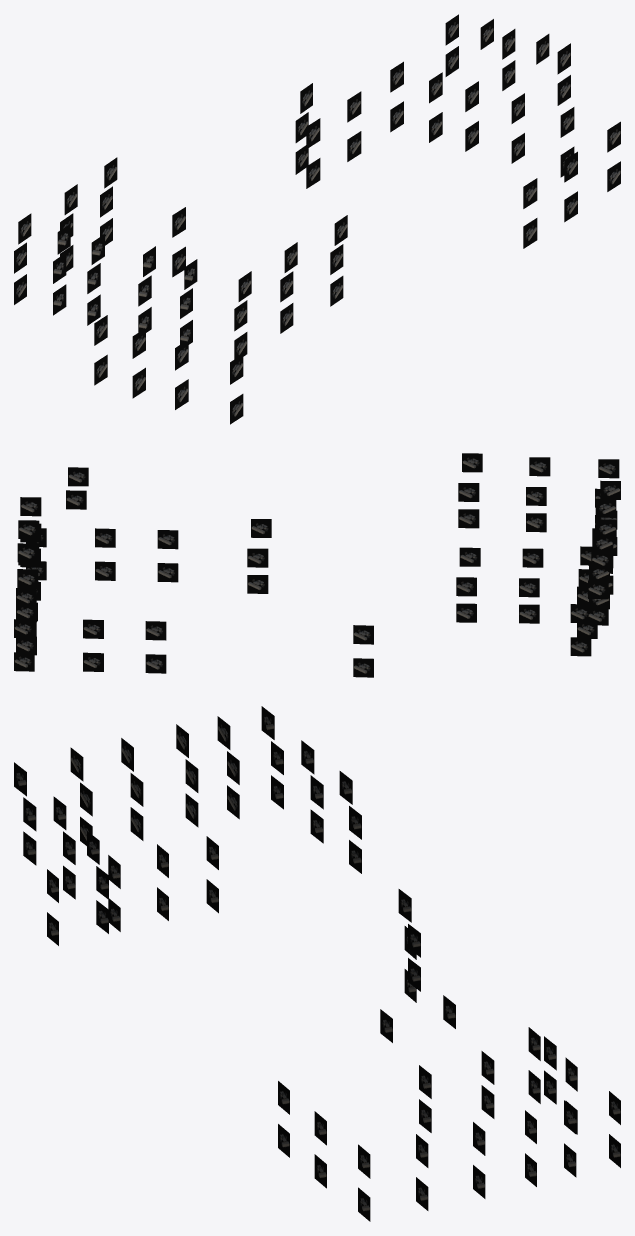
3 renders of one model, top to bottom at view 1: azimuth 30°, elevation 25°; view 2: azimuth 150°, elevation 25°; view 3: azimuth 270°, elevation 25°, orthographic. The views are drawn at different scales.
Parts seen in each view (by area): view 1: 大办公桌_替换, 对象001; view 2: 大办公桌_替换 (×18), 对象001; view 3: 大办公桌_替换, 对象001.
Boxes of the visible parts, box(x1,y1,x2,y2) form: 大办公桌_替换: box(14, 157, 347, 362); 对象001: box(295, 14, 570, 174); 大办公桌_替换 (×18): box(14, 453, 620, 677); 对象001: box(17, 467, 271, 593); 大办公桌_替换: box(14, 706, 361, 933); 对象001: box(380, 889, 556, 1132).
Size of the model in its own units: 90716 by 20932 by 67388.
Materials: 1 (1 with a texture image).
